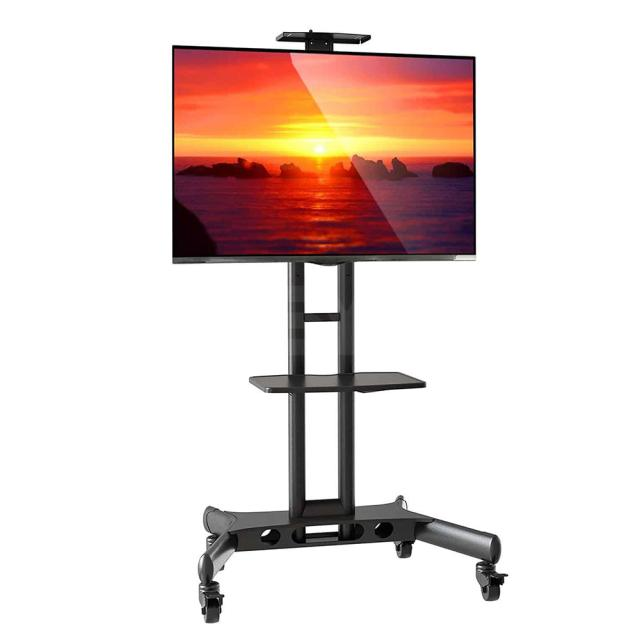electronics: (173, 31, 506, 622), (174, 47, 474, 262), (275, 29, 370, 51)
